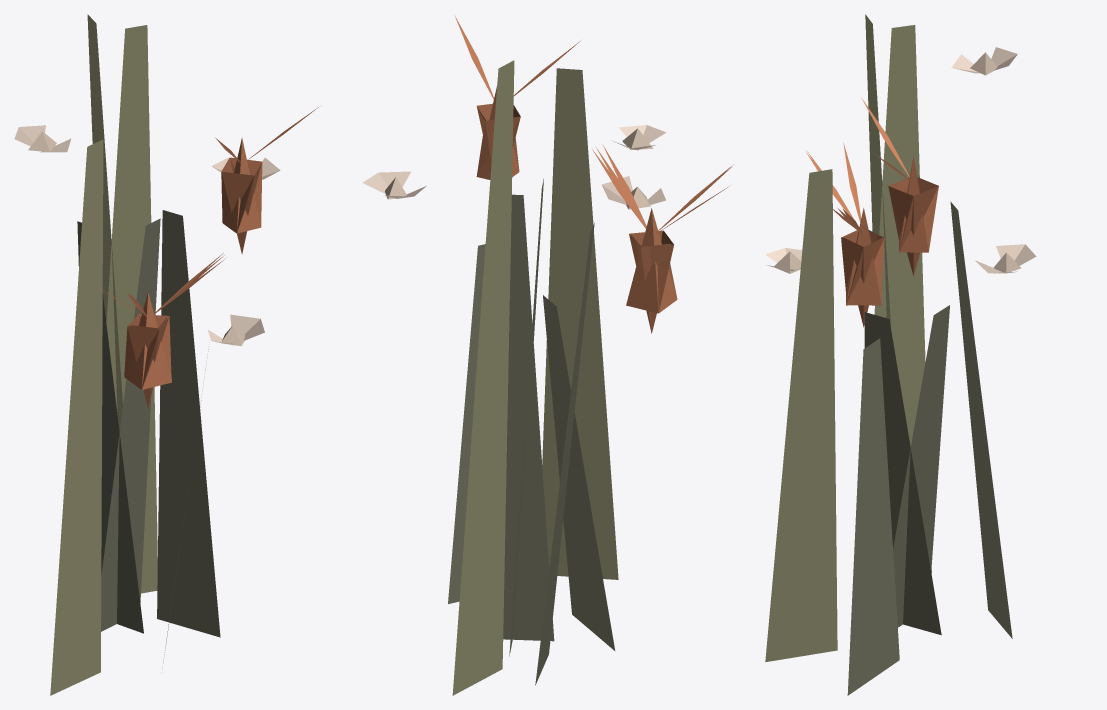
The model's file is nong.su__winter.glb.
The picture shows the model from 3 angles, left to right: view 1: azimuth 30°, elevation 25°; view 2: azimuth 150°, elevation 25°; view 3: azimuth 270°, elevation 25°; orthographic projection. The views are drawn at different scales.
Parts seen in each view (by area): view 1: nong.su__winter; view 2: nong.su__winter; view 3: nong.su__winter.
Part boxes in pixels (x1,y1,x2,y2): nong.su__winter: (14, 14, 318, 695); nong.su__winter: (362, 15, 733, 695); nong.su__winter: (765, 14, 1036, 695).
Bounding box in the file's own units: 0.4997 × 0.9887 × 0.4913.
